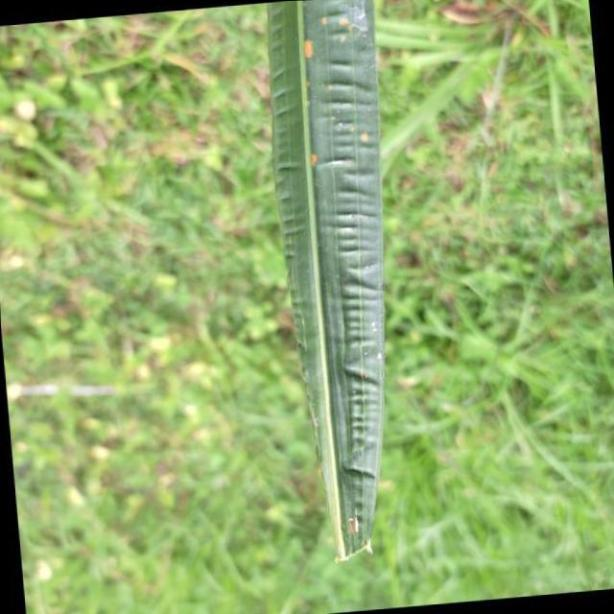Boron: (260, 0, 388, 577)
